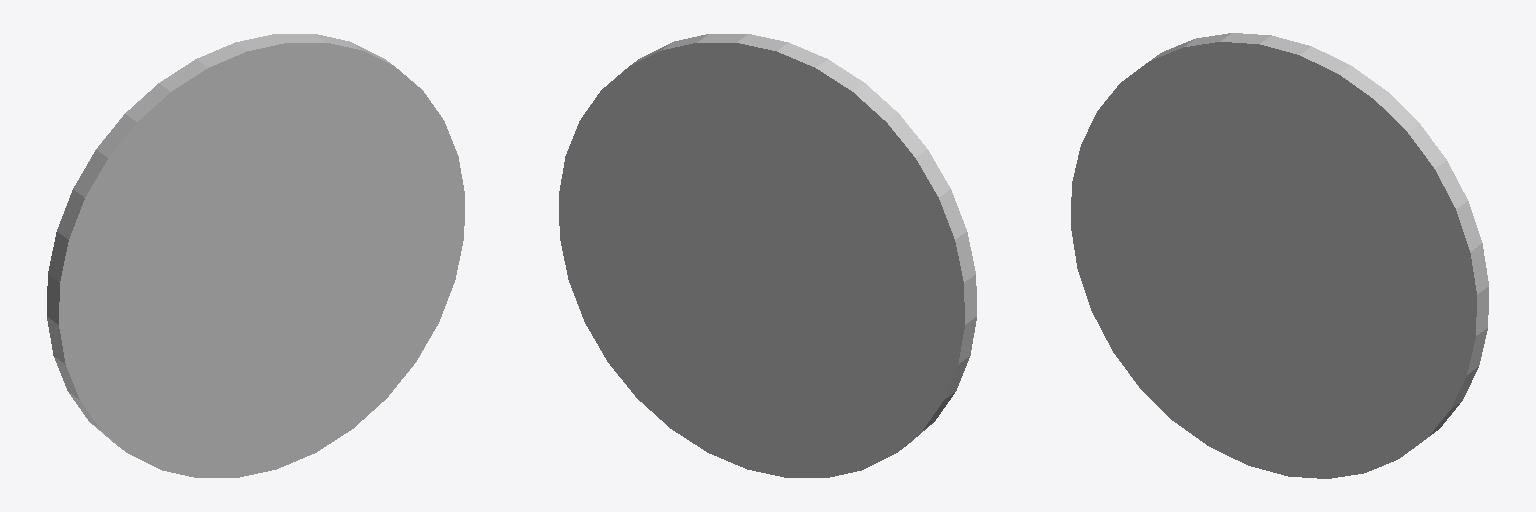
File: coin.obj
The picture shows the model from 3 angles: view 1: azimuth 30°, elevation 25°; view 2: azimuth 150°, elevation 25°; view 3: azimuth 330°, elevation 25°; orthographic projection.
Visible parts, largest first — view 1: Cylinder; view 2: Cylinder; view 3: Cylinder.
Part boxes in pixels (x1,y1,x2,y2): Cylinder: (47, 34, 464, 477); Cylinder: (559, 34, 976, 477); Cylinder: (1071, 33, 1488, 478).
Size of the model in its own units: 0.9975 by 0.9975 by 0.0518.